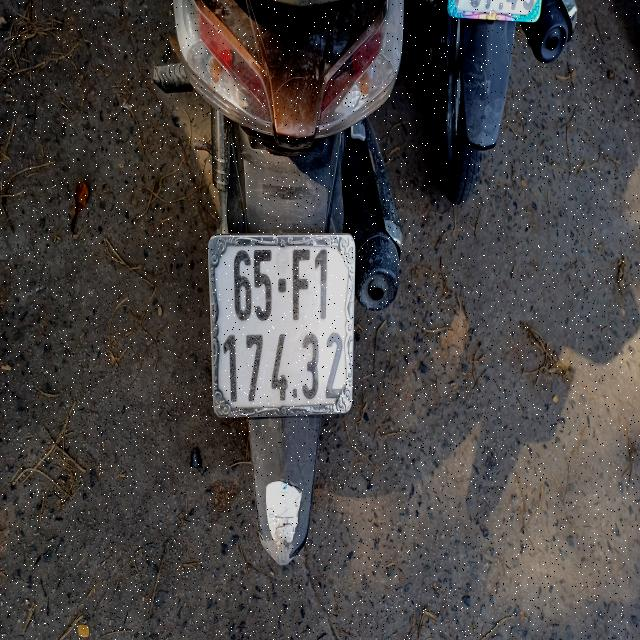1: (313, 243, 330, 323), (222, 332, 238, 406)
2: (326, 328, 346, 404)
3: (301, 328, 319, 399)
5: (252, 245, 274, 321)
6: (234, 248, 254, 323)
7: (270, 328, 292, 400), (245, 331, 263, 402)
F: (290, 246, 313, 320)
